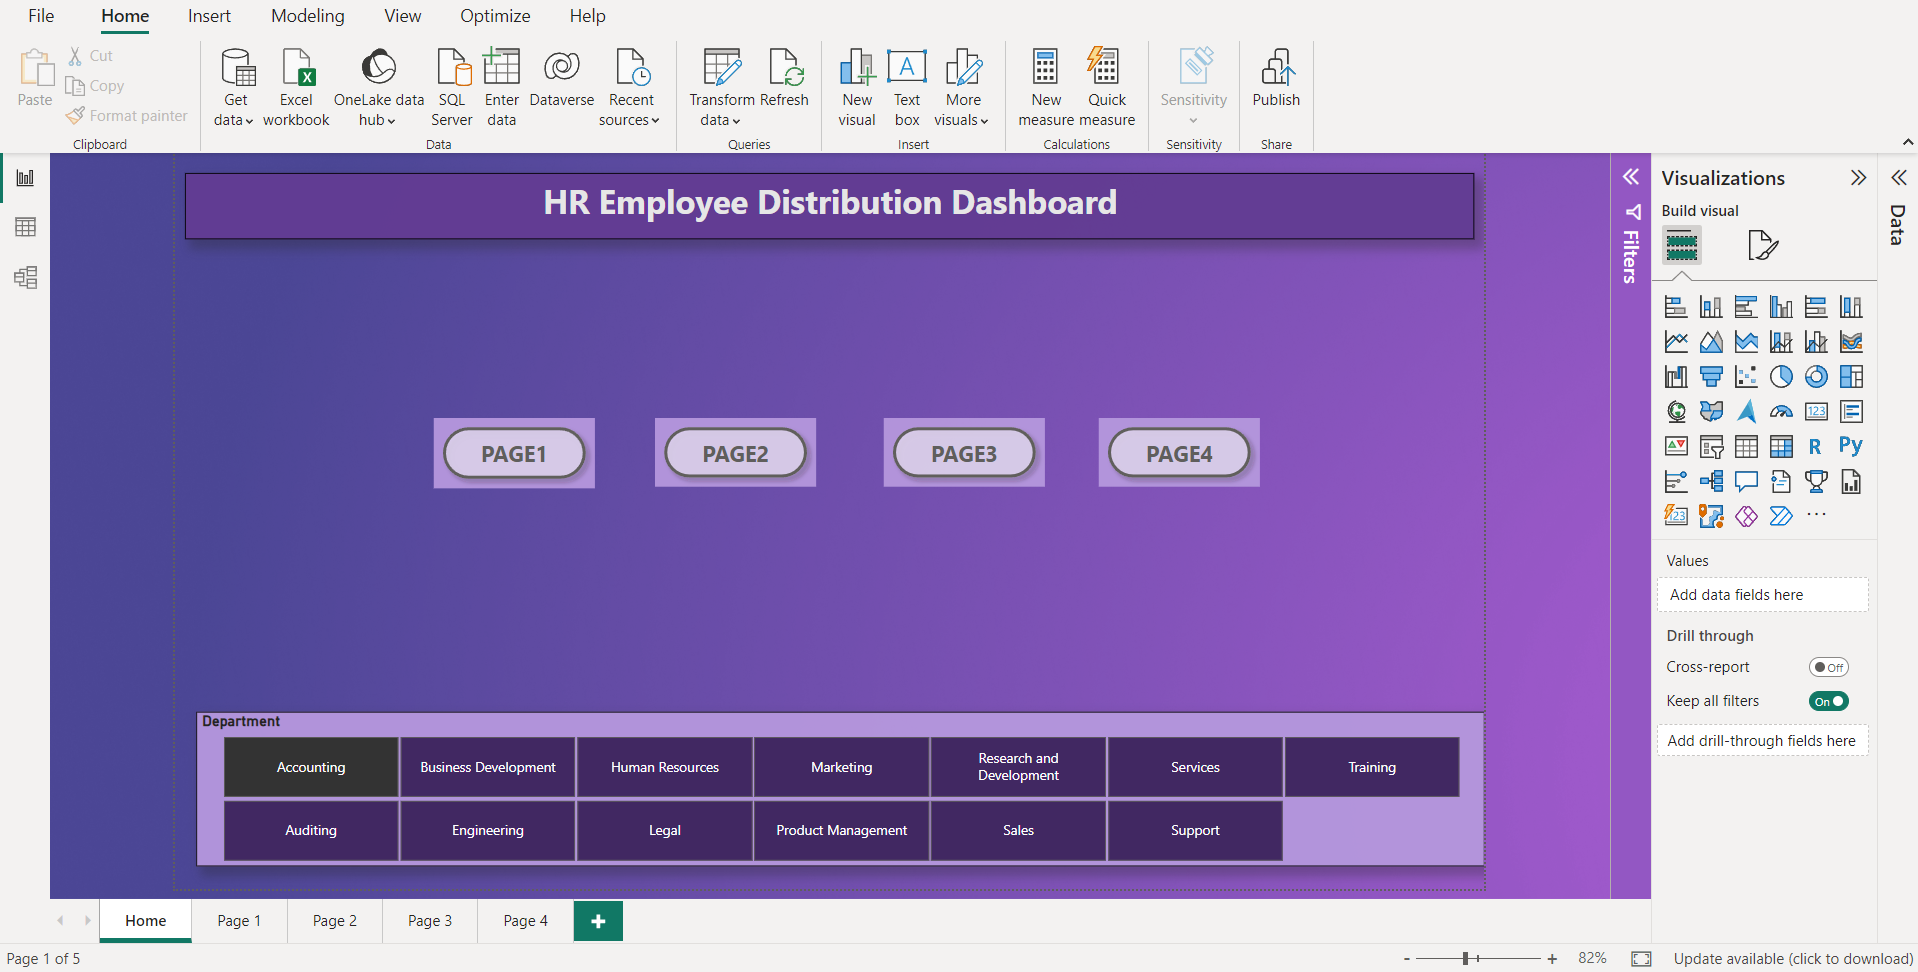

What the dashboard file says about the page in this screenshot:
{"tool":"powerbi","page":{"name":"Page 1","canvas":[1280,720],"ordinal":0},"visuals":[{"type":"textbox","box":[9.3,20.2,1260.5,65.1],"z":0},{"type":"actionButton","box":[64.8,194.4,135.7,56.2],"z":1000},{"type":"slicer","title":"Department ","fields":{"Values":["hr.department"]},"box":[19.6,336.2,1260.3,150.4],"z":2000},{"type":"actionButton","box":[242,194.4,135.7,56.2],"z":3000},{"type":"actionButton","box":[416.8,194.4,135.7,56.2],"z":4000},{"type":"actionButton","box":[606.3,194.4,135.7,56.2],"z":5000},{"type":"actionButton","box":[775,194.4,135.7,56.2],"z":5001}]}

Visuals, with their boxes on the page's 1280x720 design canvas (x1, y1, x2, y2). These are canvas units, not pixel positions in the 1918x972 screenshot, which may show the page scaled, cropped or inside an application window:
textbox: bbox=[9, 20, 1270, 85]
actionButton: bbox=[65, 194, 200, 251]
"Department " slicer: bbox=[20, 336, 1280, 487]
actionButton: bbox=[242, 194, 378, 251]
actionButton: bbox=[417, 194, 552, 251]
actionButton: bbox=[606, 194, 742, 251]
actionButton: bbox=[775, 194, 911, 251]
